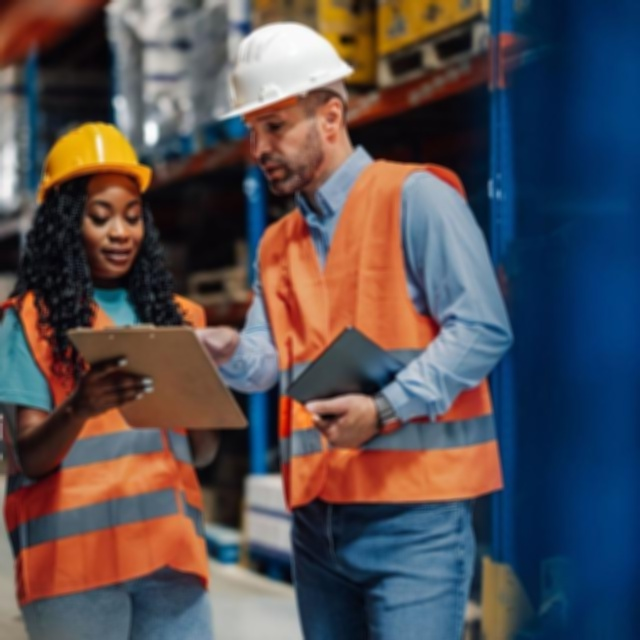Con_Casco: (219, 20, 353, 185)
Con_Chaleco: (262, 165, 478, 502), (3, 289, 209, 603)
